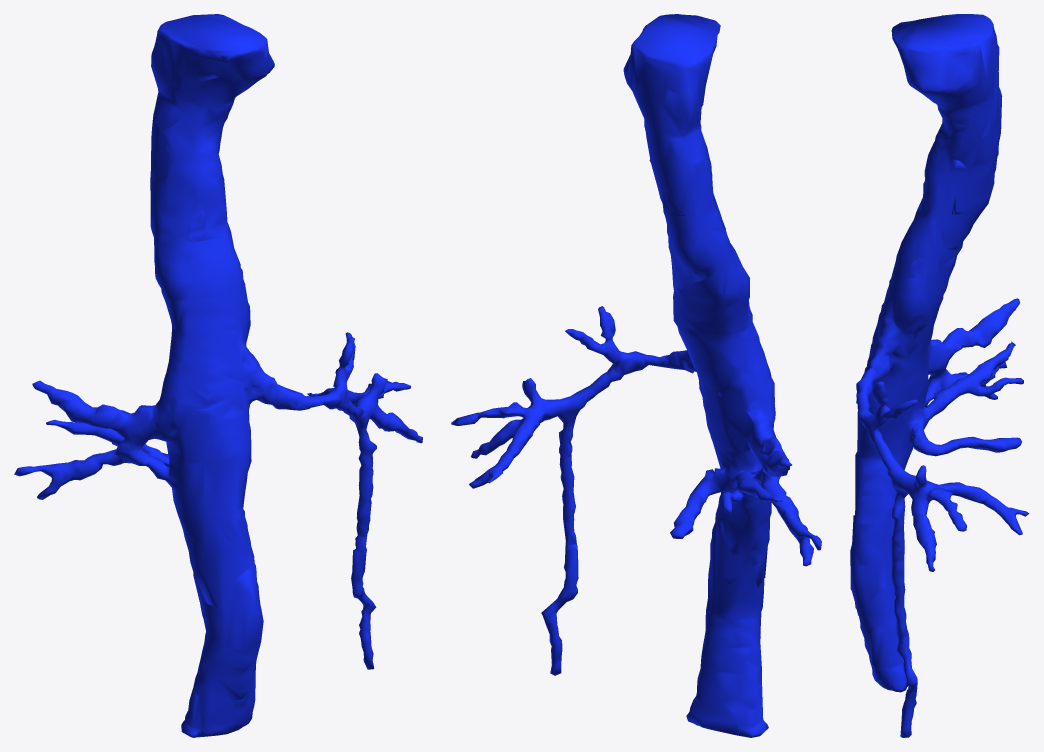
The picture shows the model from 3 angles, left to right: view 1: azimuth 30°, elevation 25°; view 2: azimuth 150°, elevation 25°; view 3: azimuth 270°, elevation 25°; orthographic projection. The views are drawn at different scales.
Parts seen in each view (by area): view 1: Polygonal_Model_2_Triangles_0; view 2: Polygonal_Model_2_Triangles_0; view 3: Polygonal_Model_2_Triangles_0.
Part boxes in pixels (<box>): Polygonal_Model_2_Triangles_0: <box>14,14,422,737</box>; Polygonal_Model_2_Triangles_0: <box>451,14,821,737</box>; Polygonal_Model_2_Triangles_0: <box>850,14,1029,737</box>.
Bounding box in the file's own units: 5.38 × 9.19 × 2.28.
